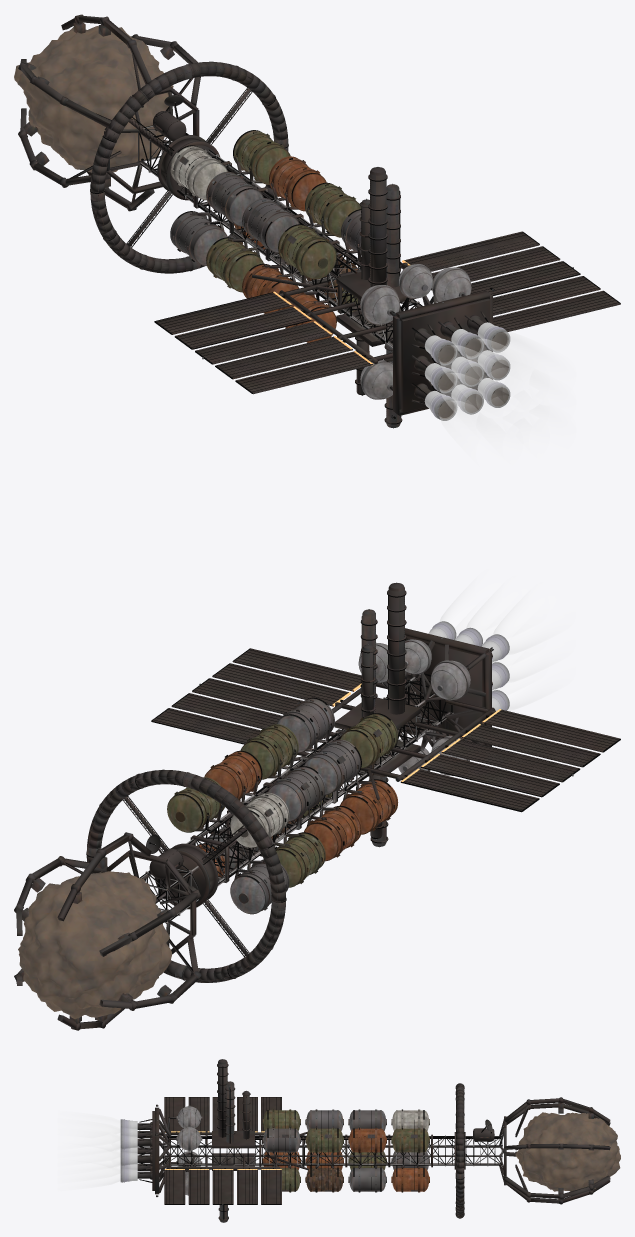
File: Minotaur.glb
3 views of the same model, one above another, from view 1: azimuth 30°, elevation 25°; view 2: azimuth 150°, elevation 25°; view 3: azimuth 270°, elevation 25° (orthographic). The views are drawn at different scales.
Visible parts, largest first — view 1: hull, detail, plume; view 2: hull, detail, plume; view 3: hull, detail, plume.
Boxes of the visible parts, x1,y1,x2,y2 form: hull: [18, 14, 620, 424]; detail: [14, 22, 510, 427]; plume: [438, 332, 557, 453]; hull: [14, 583, 620, 1030]; detail: [18, 609, 509, 1023]; plume: [440, 588, 556, 710]; hull: [137, 1059, 610, 1220]; detail: [120, 1081, 620, 1222]; plume: [63, 1113, 120, 1188].
Size of the model in its own units: 477 by 327 by 1130.
Materials: 6 (4 with a texture image).
